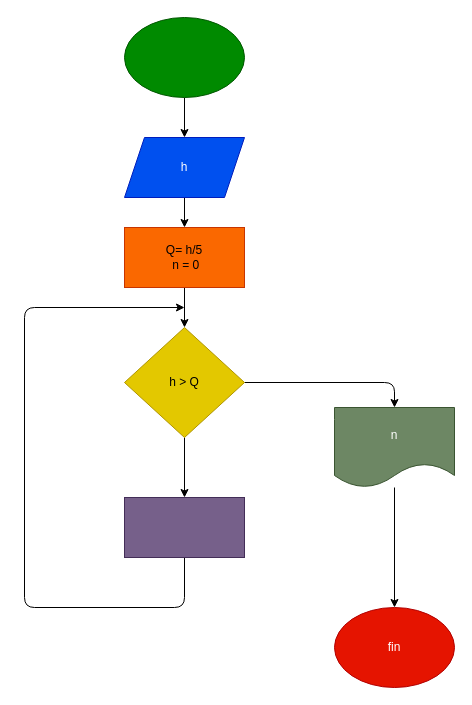
Some shapes in this 472 by 705 pixel diagram are drawn without their labels. Each missing label, with the centre of its shape:
h = 0.9*h n = n + 1: (x=184, y=527)
inicio: (x=184, y=57)
